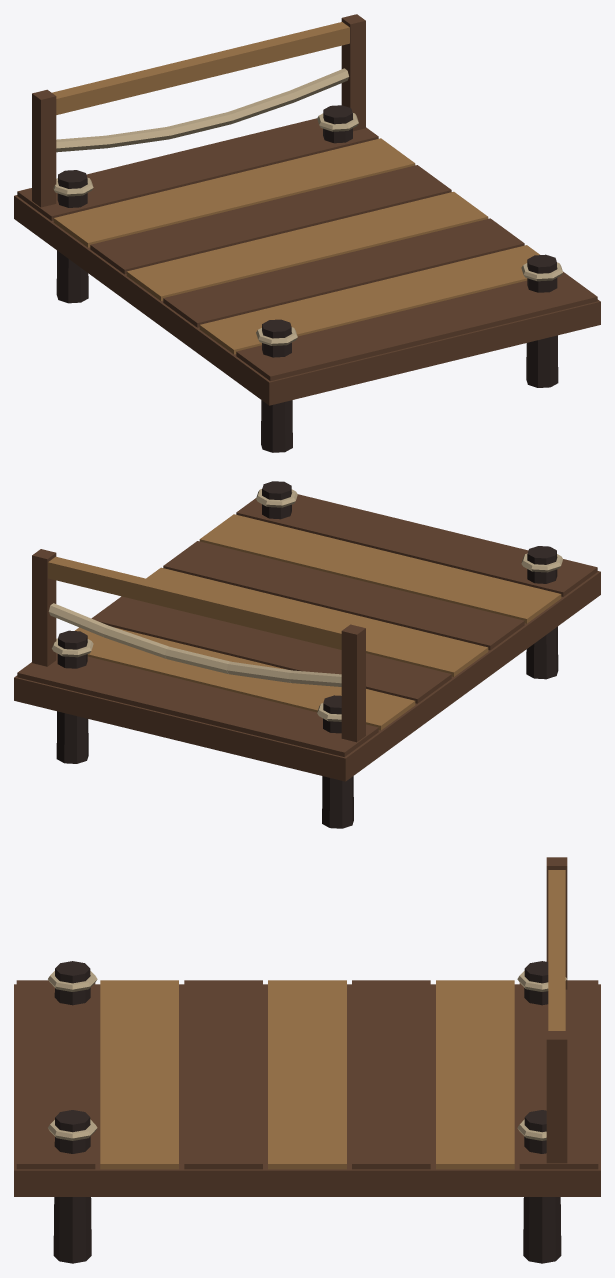
The model's file is PirateCove_DockEnd_Standard.glb.
3 views of the same model, one above another, from view 1: azimuth 30°, elevation 25°; view 2: azimuth 150°, elevation 25°; view 3: azimuth 270°, elevation 25° (orthographic). The views are drawn at different scales.
Visible parts, largest first — view 1: PirateCove_DockEnd_Standard; view 2: PirateCove_DockEnd_Standard; view 3: PirateCove_DockEnd_Standard.
Boxes of the visible parts, x1,y1,x2,y2 form: PirateCove_DockEnd_Standard: (14, 14, 600, 452); PirateCove_DockEnd_Standard: (14, 481, 600, 828); PirateCove_DockEnd_Standard: (14, 857, 600, 1263).
Size of the model in its own units: 3 by 1.75 by 4.
